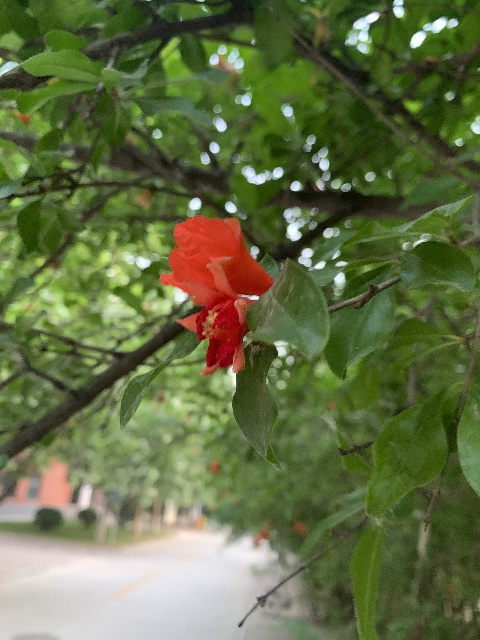flower: (158, 213, 274, 301), (176, 259, 256, 376)
